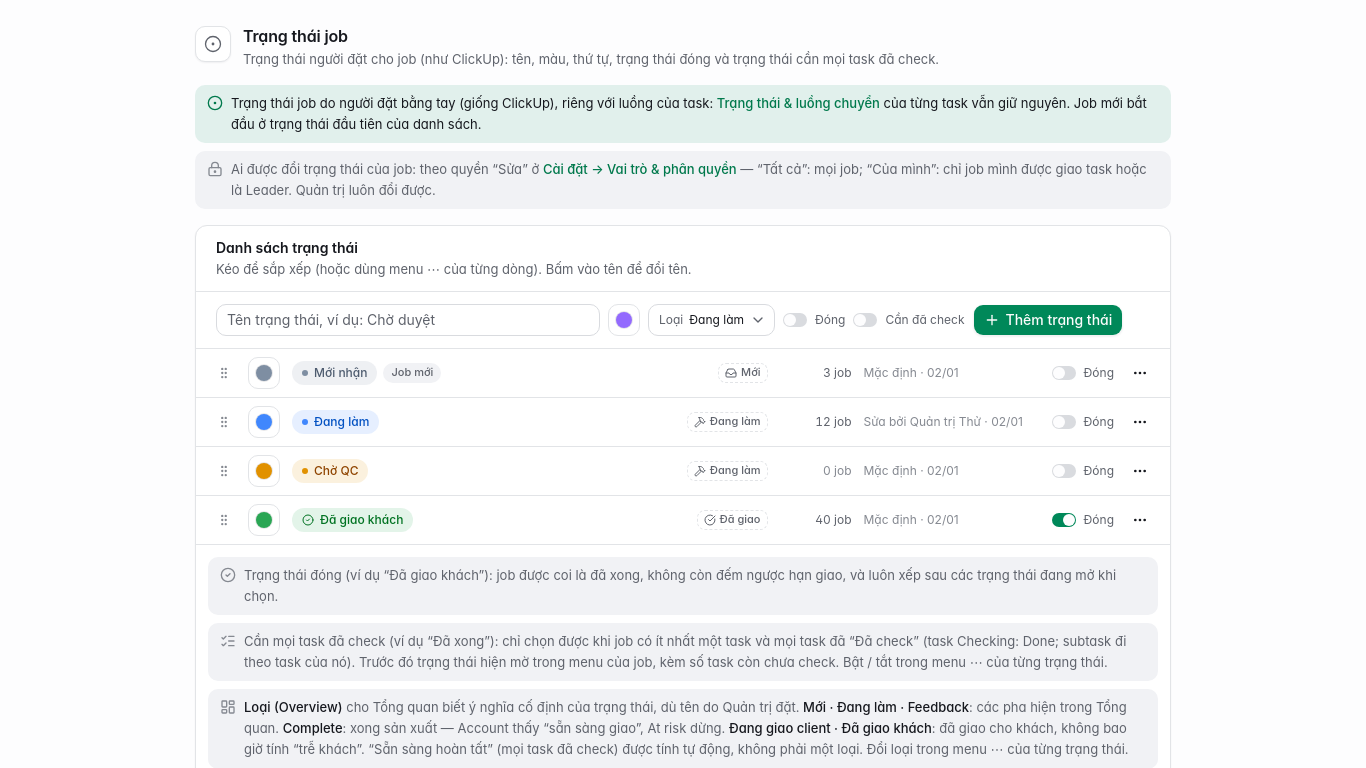
Test: Cấu hình → Trạng thái job — Loại (Overview) (PD-080) › creates a status with the chosen kind
Expected: the button "Mới nhận Job mới Mới" is shown, [292,361,768,385]
Click the dropdown named "Loại (Overview) của trạng thái mới" at point(712, 320), box [648,304,775,336]
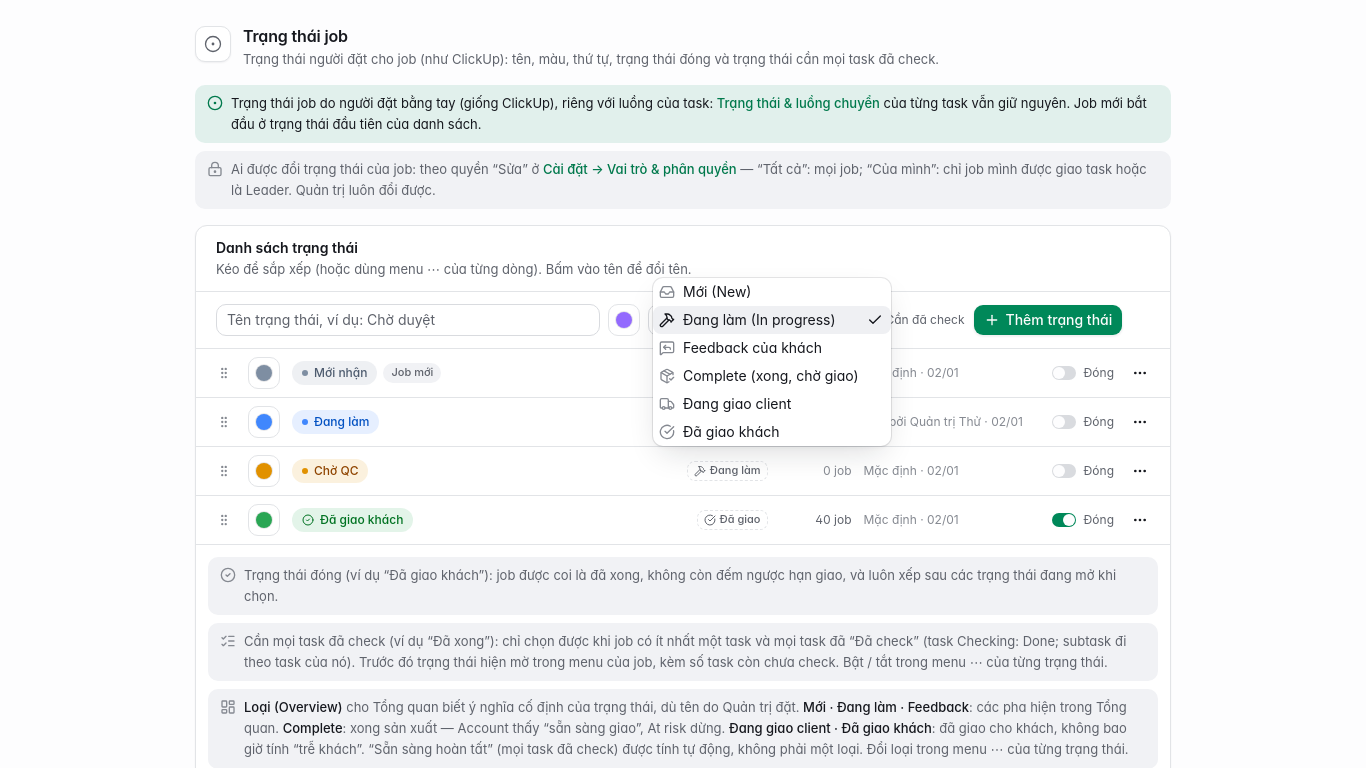
Expected: the options read "Mới (New)", "Đang làm (In progress)", "Feedback của khách", "Complete (xong, chờ giao)", "Đang giao client", "Đã giao khách", in this order
Click the option "Complete (xong, chờ giao)" at point(759, 375), box [659,367,859,384]
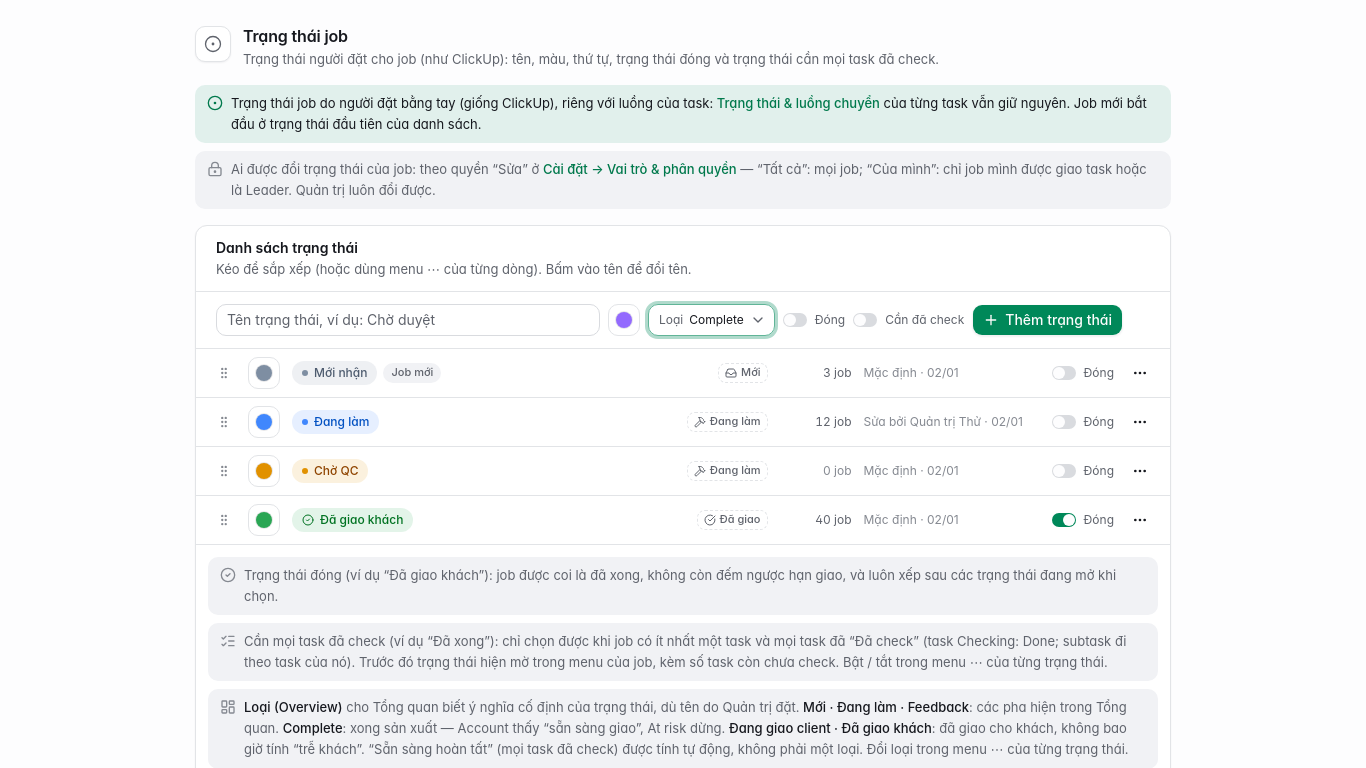
Expected: the dropdown named "Loại (Overview) của trạng thái mới" shows "Complete", [648,304,775,336]
Type "Sẵn sàng giao" into the field named "Tên trạng thái mới" at point(408, 320), box [216,304,600,336]
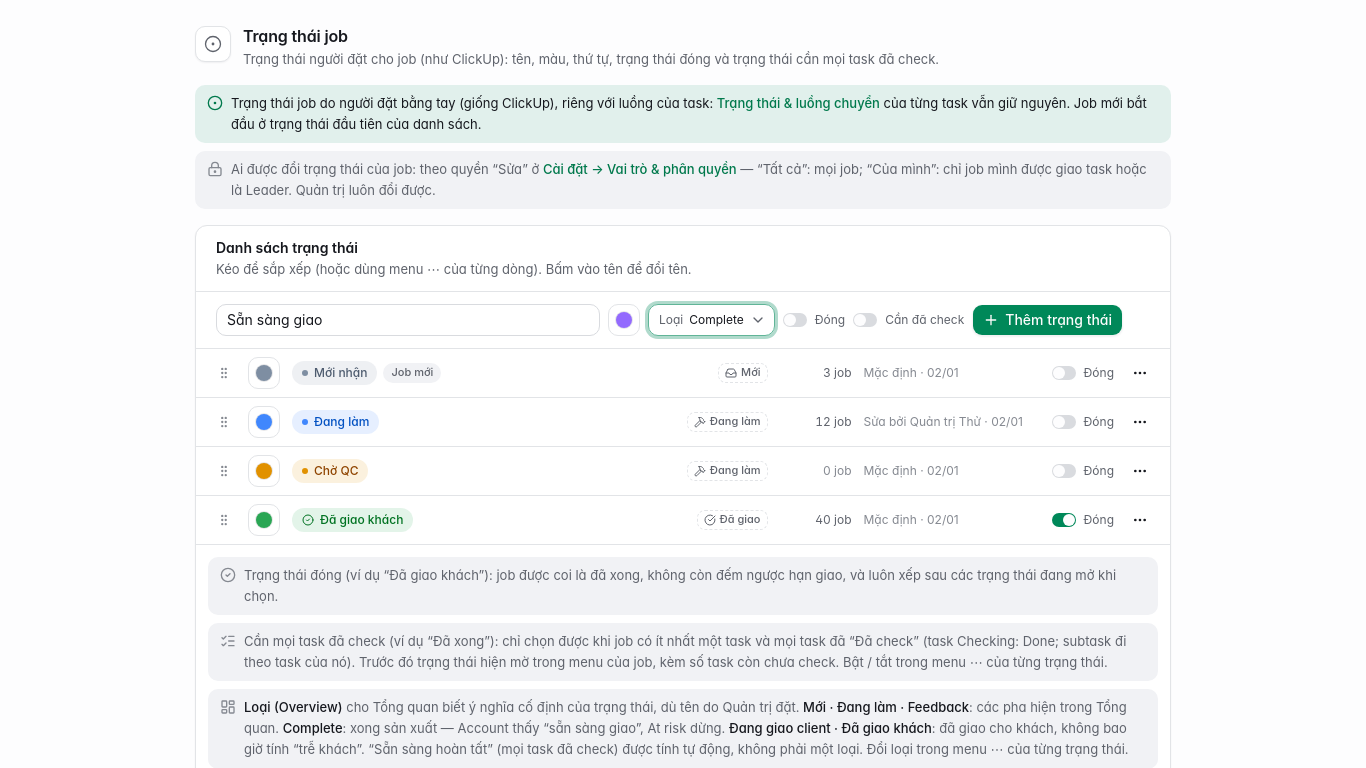
Click the button "Thêm trạng thái" at point(1048, 320), box [972,304,1123,336]
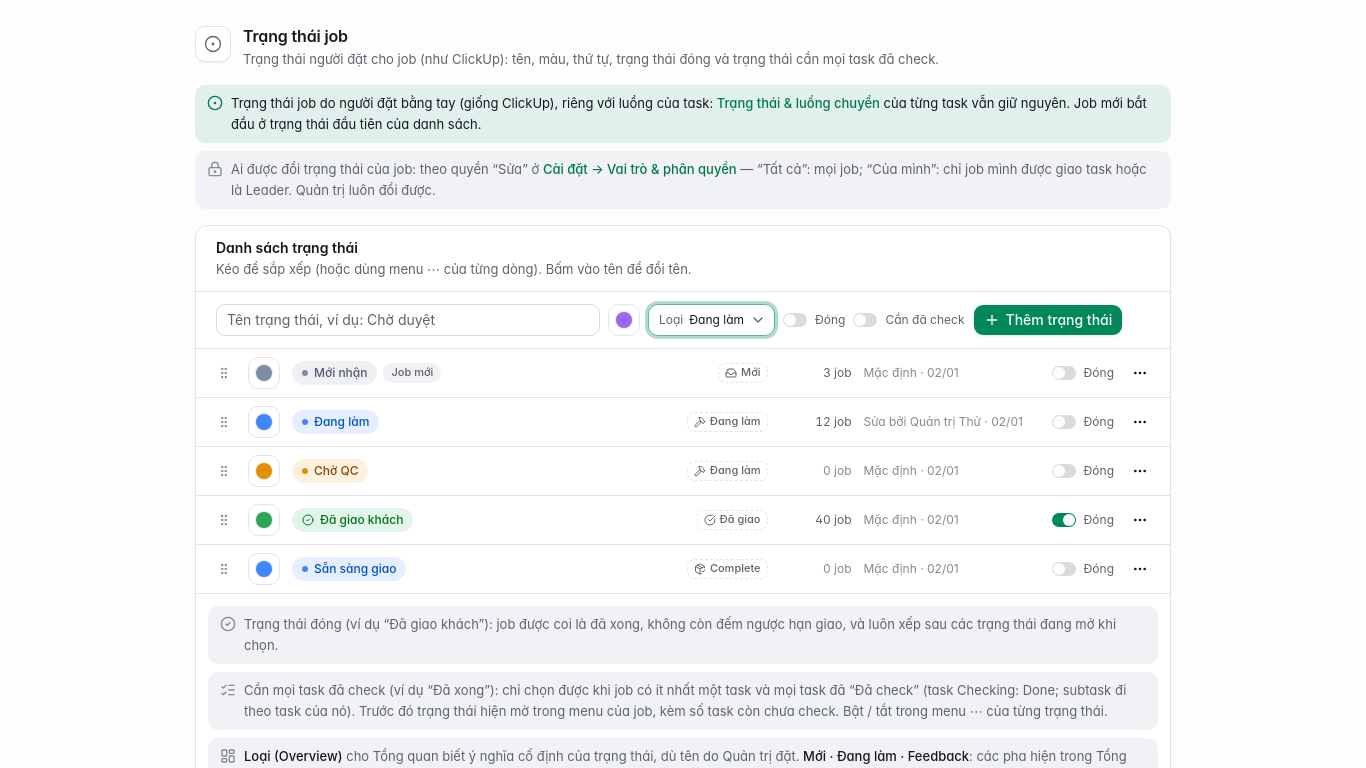
Expected: the dropdown named "Loại (Overview) của trạng thái mới" shows "Đang làm", [648,304,775,336]
